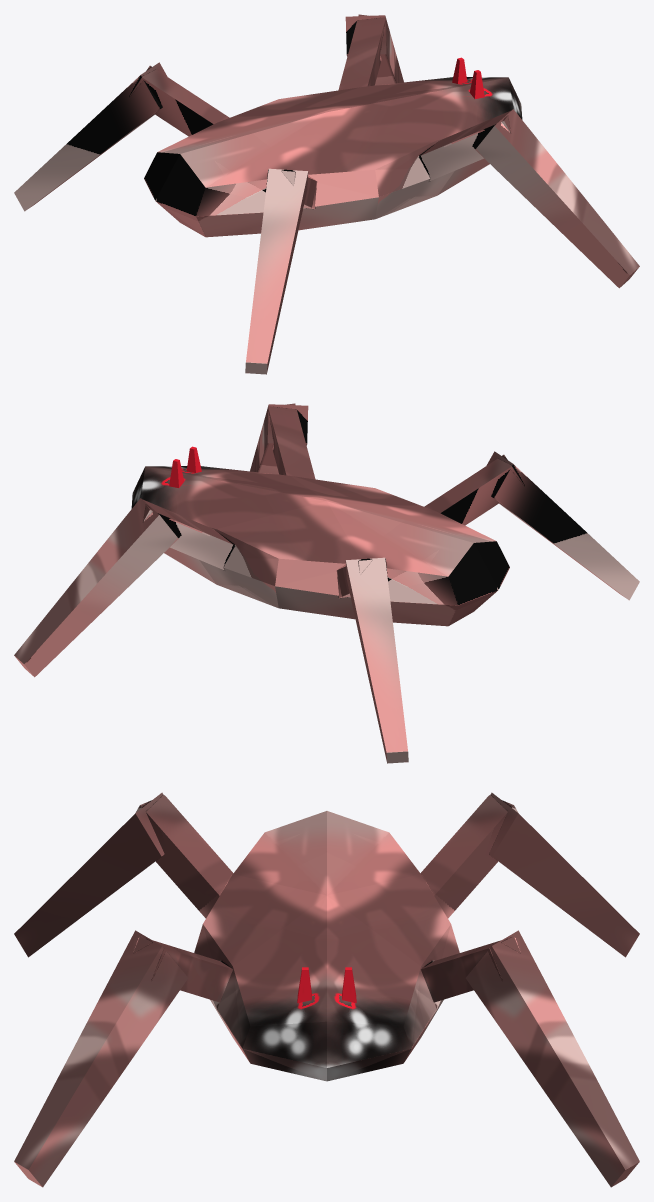
The model's file is spider.gltf.
3 views of the same model, one above another, from view 1: azimuth 30°, elevation 25°; view 2: azimuth 150°, elevation 25°; view 3: azimuth 270°, elevation 25° (orthographic). The views are drawn at different scales.
Visible parts, largest first — view 1: Cylinder; view 2: Cylinder; view 3: Cylinder.
Part boxes in pixels (x1,y1,x2,y2): Cylinder: (14, 14, 639, 374); Cylinder: (14, 403, 639, 763); Cylinder: (14, 792, 639, 1187).
Bounding box in the file's own units: 4.29 × 1.61 × 4.58.
Materials: 1 (1 with a texture image).
